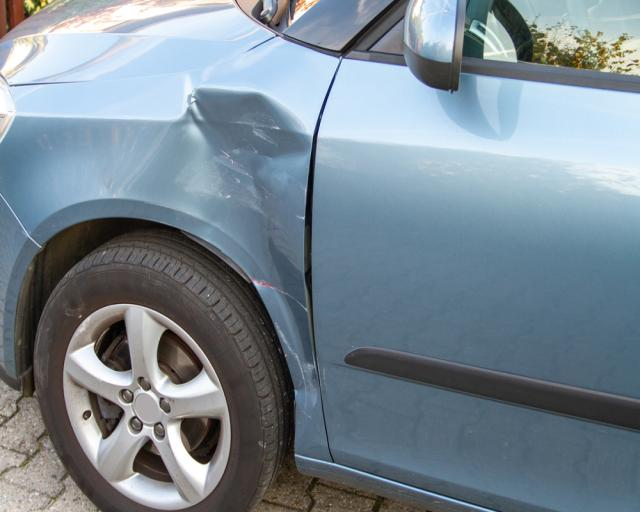dent: (124, 87, 321, 402)
